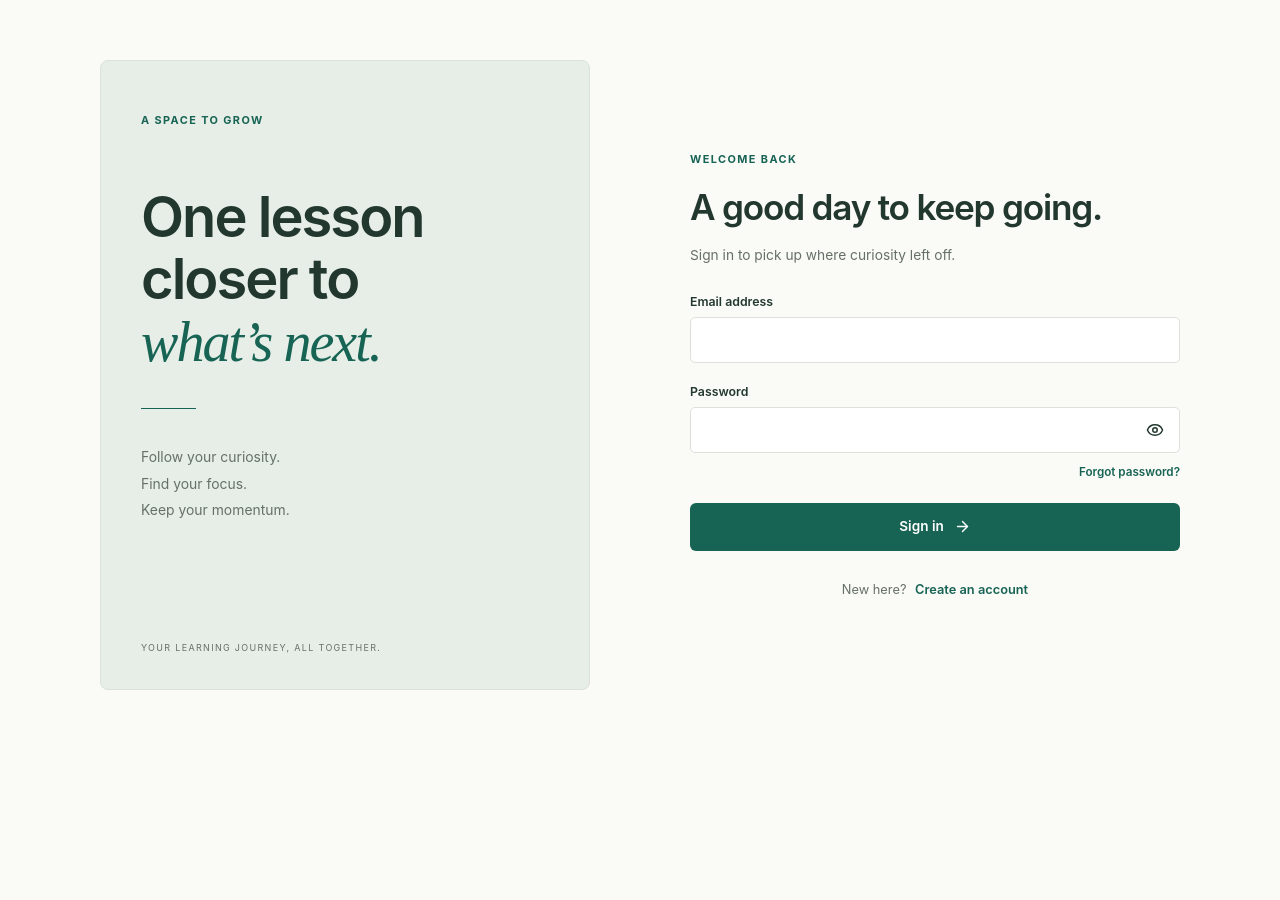
Test case: authentication flow boundaries › only an explicit unverified response routes login to Verify Email
In the field labelled "Email address": [935, 340] box x1=690 y1=317 x2=1180 y2=363, type "pending@example.test"
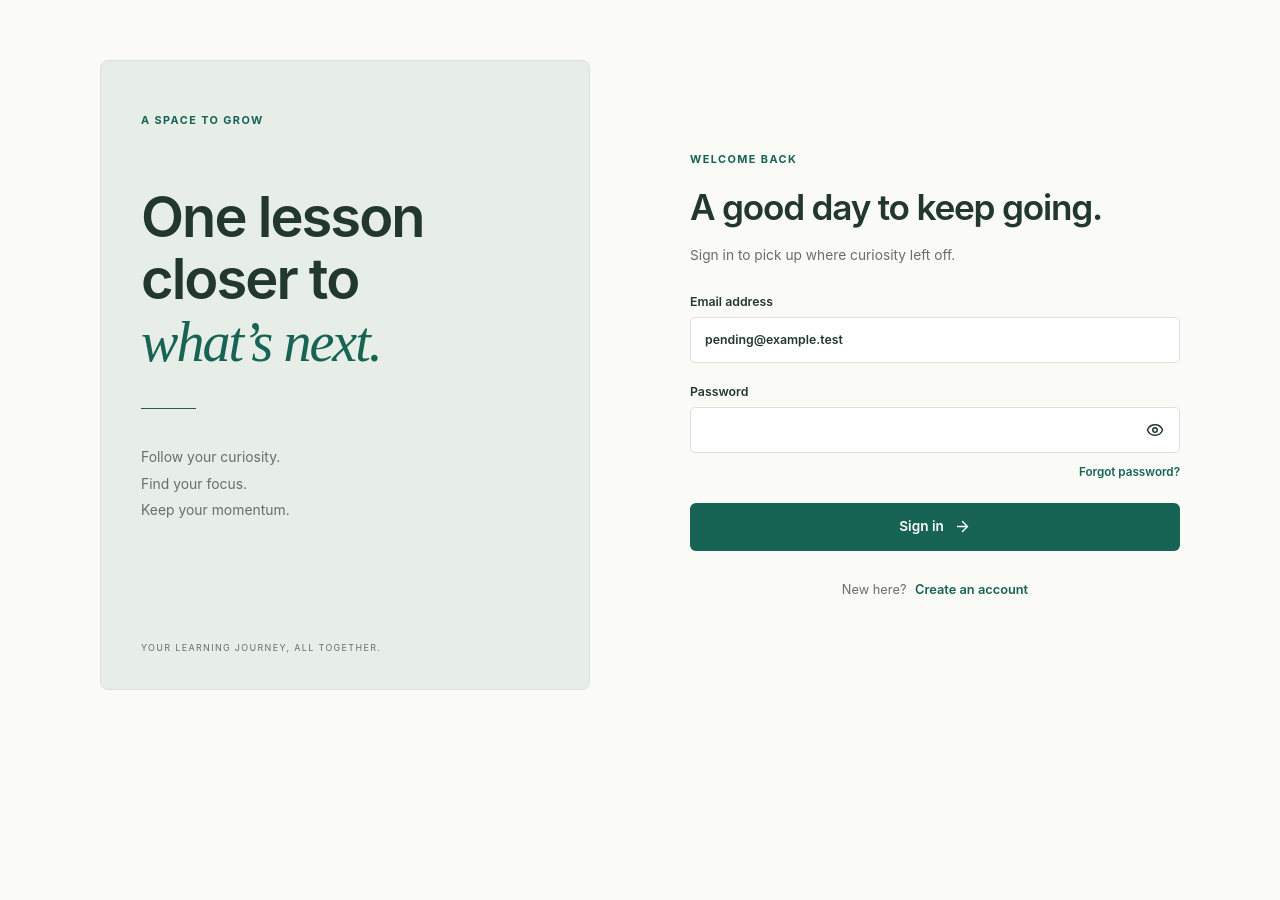
In the password field labelled "Password": [935, 430] box x1=690 y1=407 x2=1180 y2=453, type "valid-password"
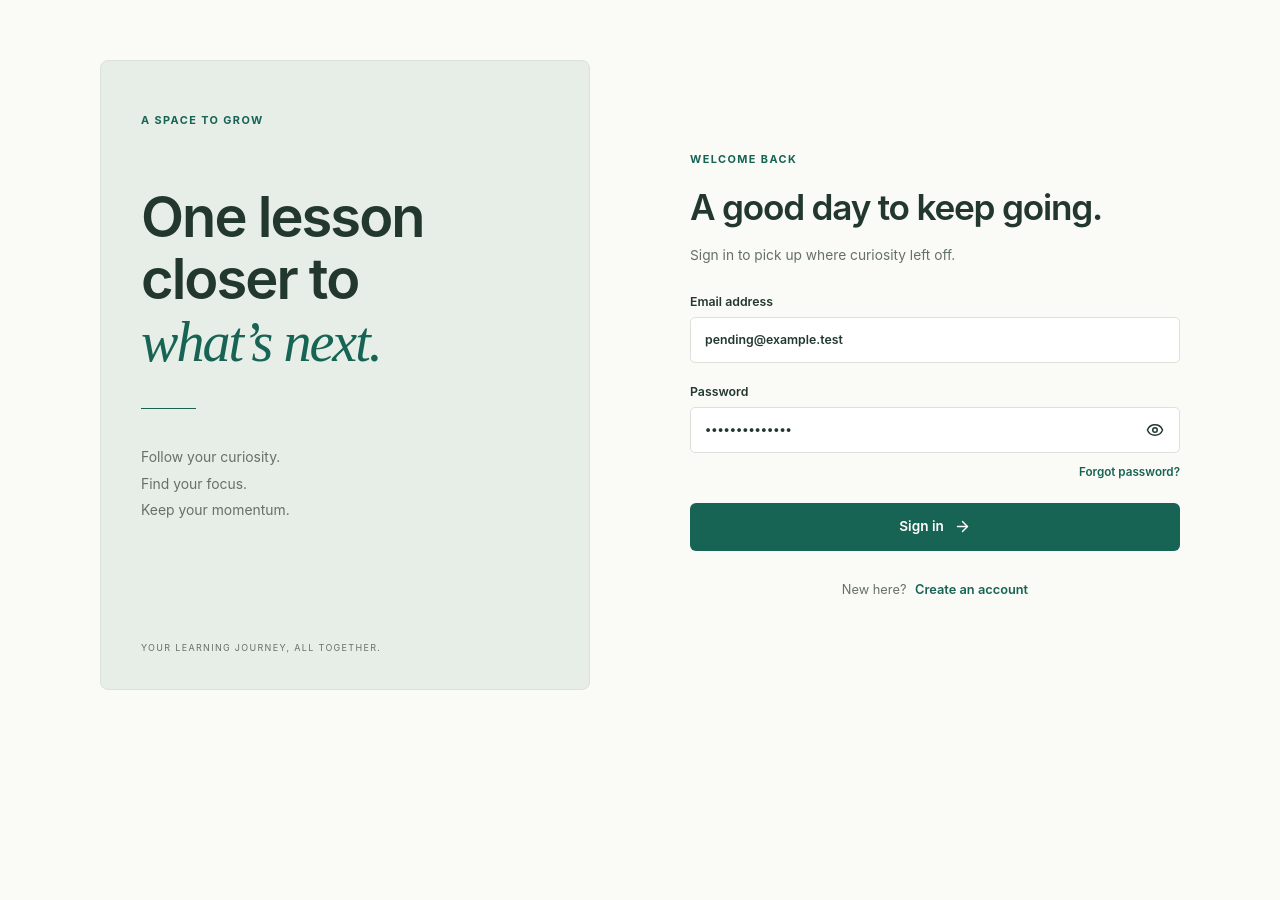
Click the button "Sign in": [935, 527] box x1=690 y1=503 x2=1180 y2=550
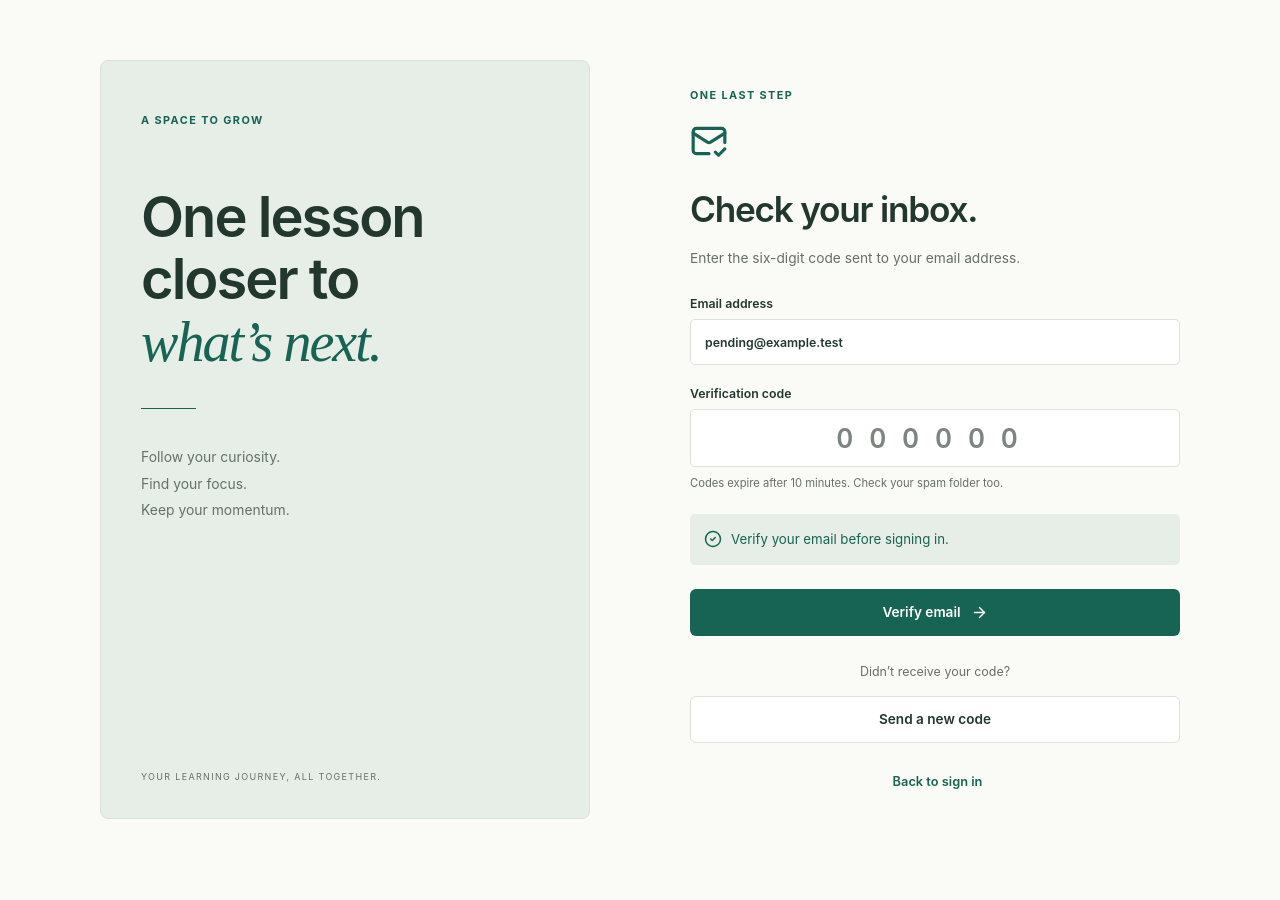
Expected: the button "Verify email" is shown, x1=690 y1=589 x2=1180 y2=636
Expected: the field labelled "Verification code" is shown, x1=690 y1=409 x2=1180 y2=467
Expected: the button "Send a new code" is enabled, x1=690 y1=696 x2=1180 y2=743
